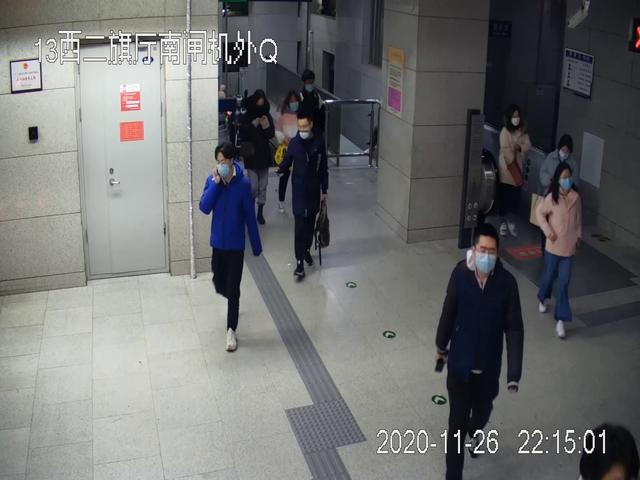person: (437, 226, 524, 479), (199, 142, 261, 352), (279, 113, 331, 281), (535, 163, 582, 341), (540, 133, 580, 269), (494, 106, 530, 237), (240, 89, 273, 223), (276, 92, 308, 215)
